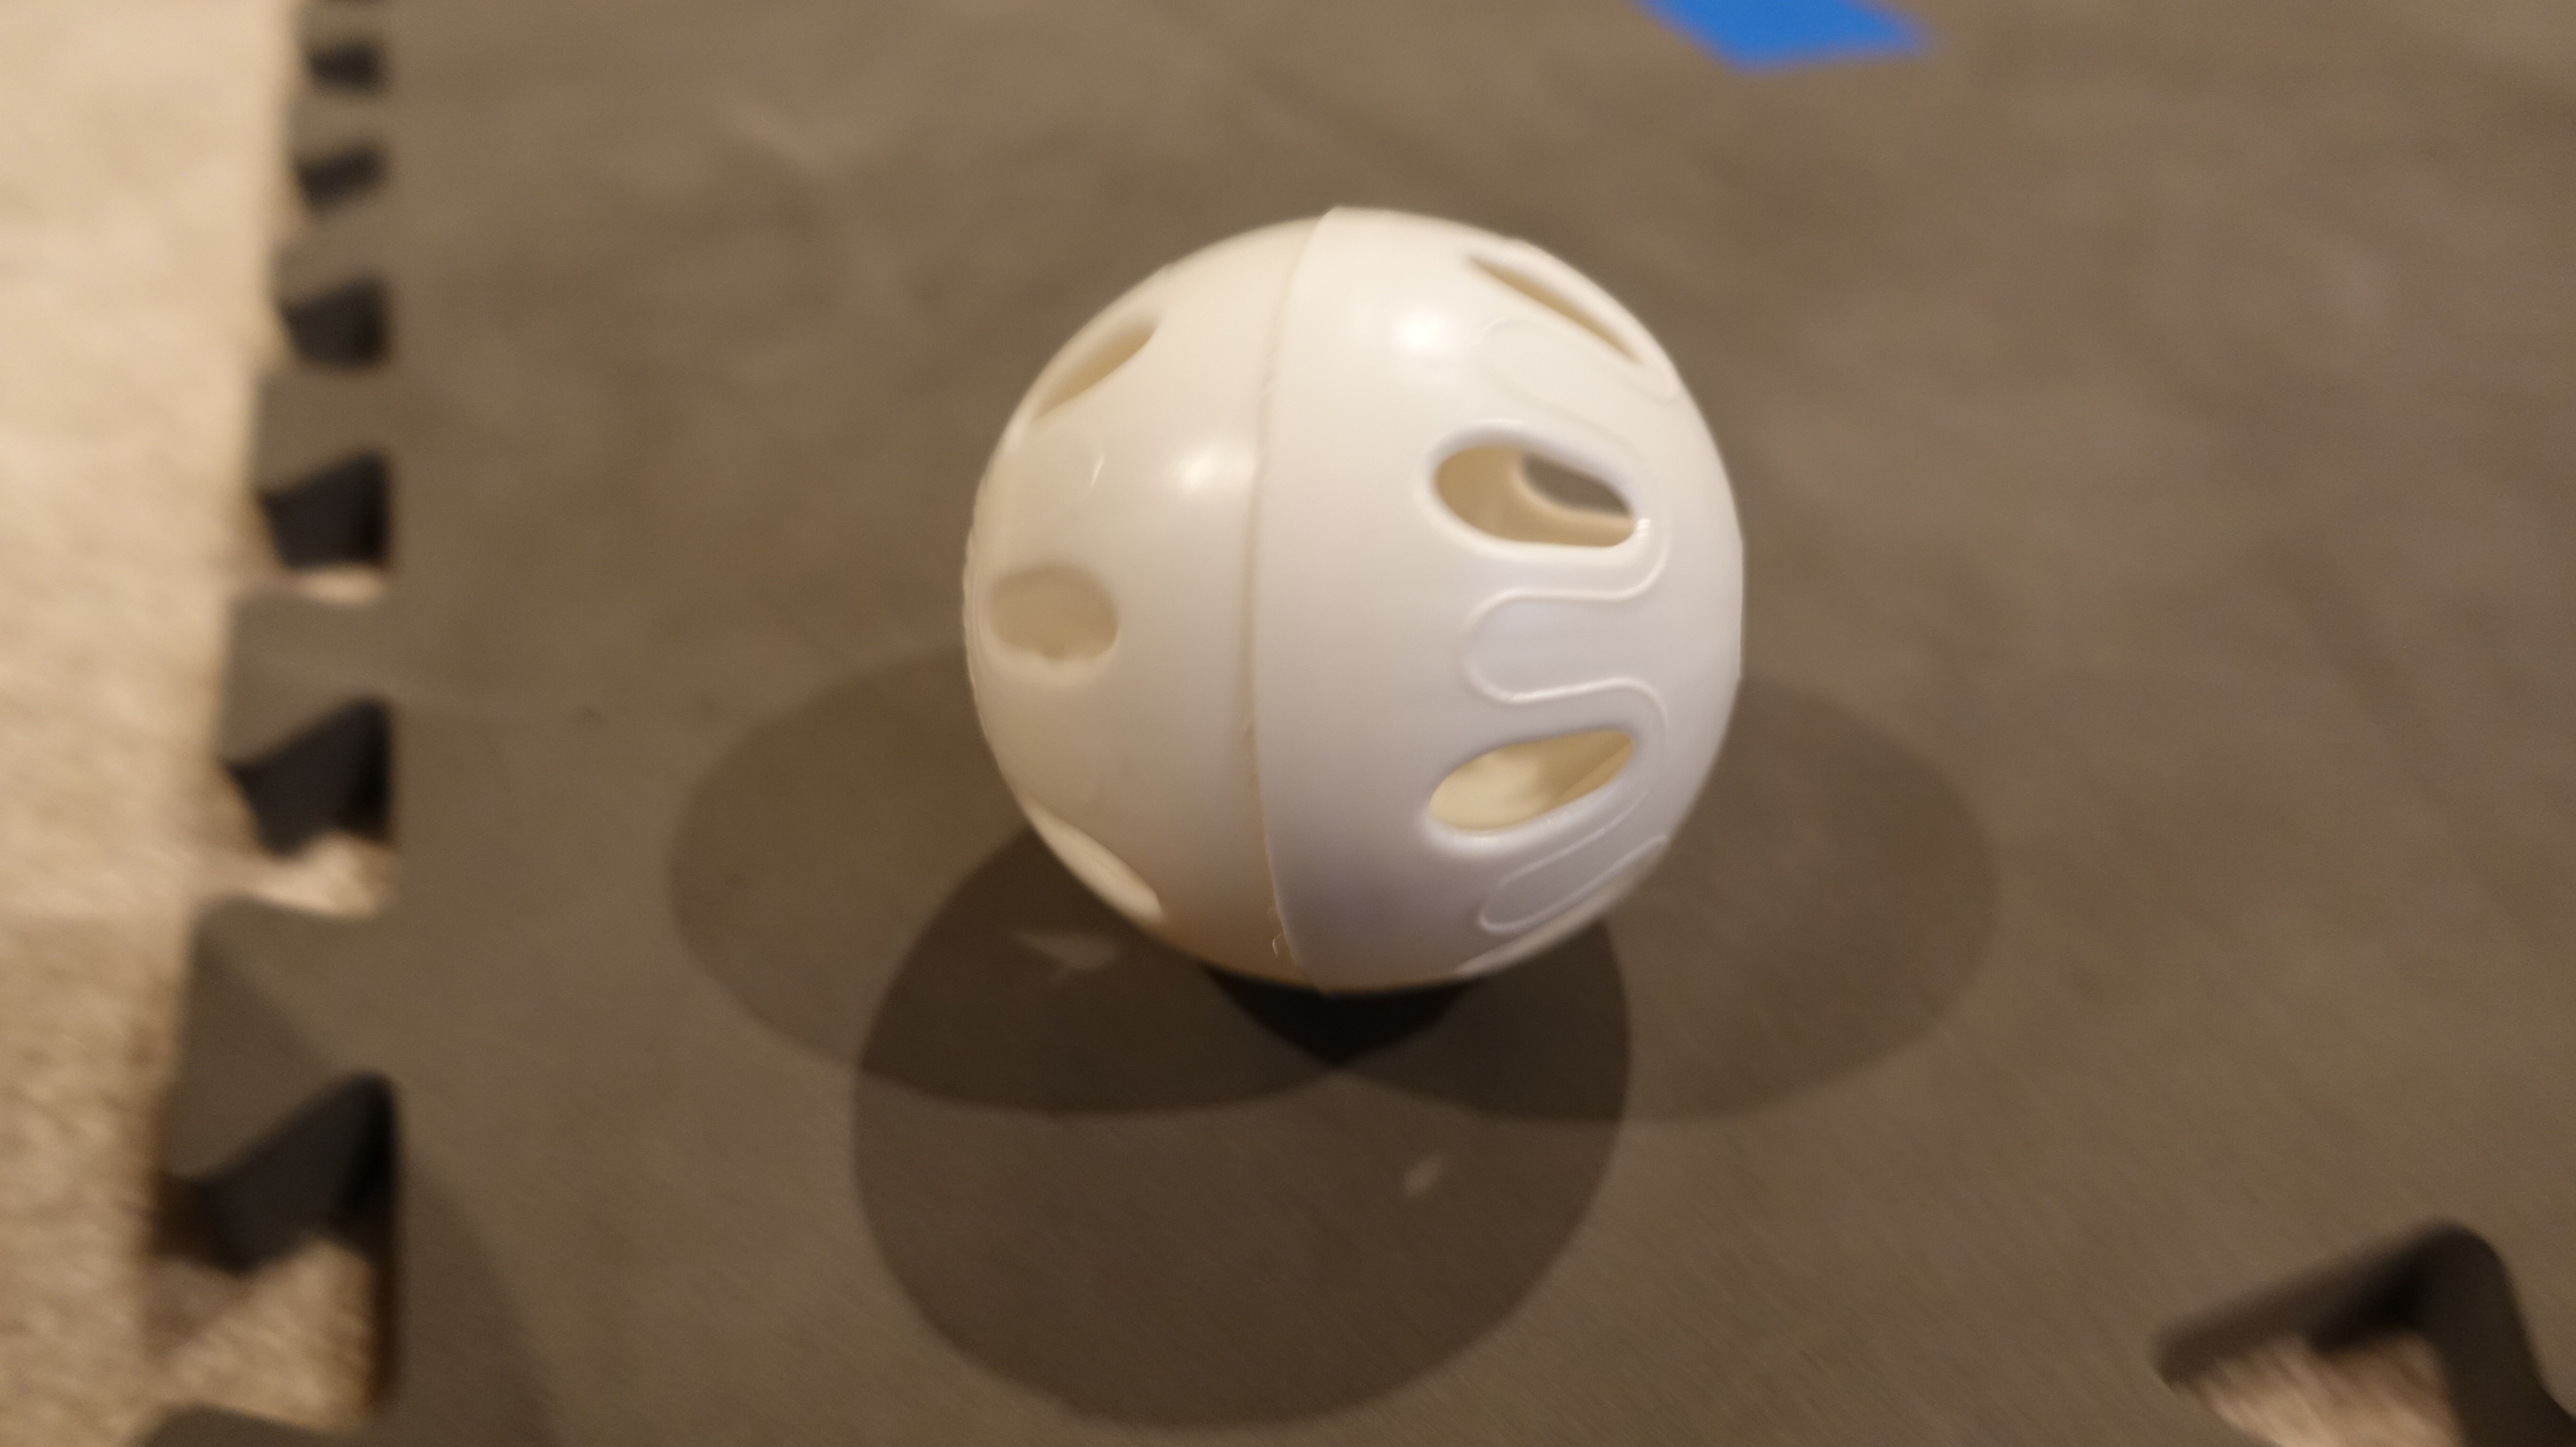silver: (952, 191, 1753, 1012)
